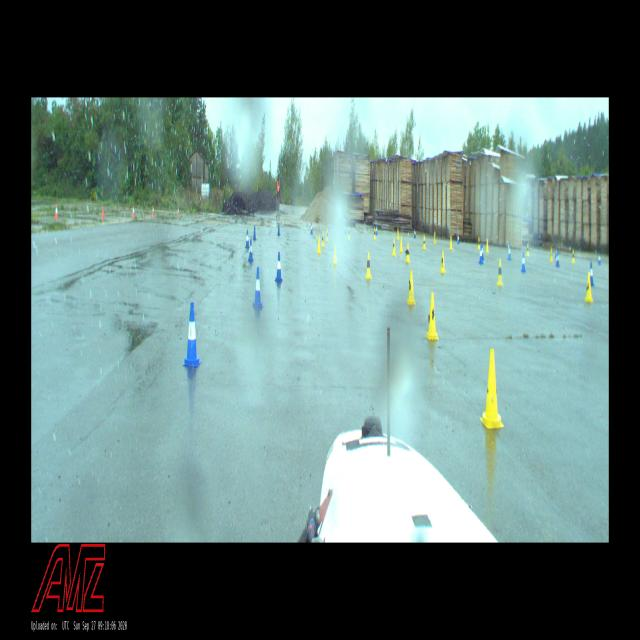blue_cone: (184, 302, 202, 368), (253, 266, 263, 309), (275, 251, 283, 283), (248, 237, 253, 262), (521, 252, 526, 273), (590, 262, 594, 286), (479, 245, 483, 264), (246, 230, 250, 248), (556, 252, 560, 268), (252, 225, 256, 241), (508, 244, 512, 260), (481, 244, 484, 259), (310, 222, 313, 235), (598, 253, 601, 265), (457, 233, 460, 244), (278, 222, 280, 236), (414, 226, 416, 239)
orange_cone: (54, 205, 59, 219), (132, 205, 135, 219), (152, 204, 155, 217), (102, 206, 105, 219), (177, 205, 180, 217)
yellow_cone: (480, 348, 504, 428), (426, 292, 439, 342), (407, 272, 416, 306), (584, 271, 592, 303), (365, 252, 372, 280), (497, 258, 503, 286), (440, 251, 446, 274), (405, 244, 411, 264), (316, 235, 322, 255), (332, 245, 337, 265), (392, 237, 396, 257), (422, 235, 427, 251), (399, 236, 403, 252), (449, 235, 453, 250), (526, 243, 530, 257), (477, 236, 481, 250), (321, 231, 324, 247), (550, 248, 553, 263), (373, 226, 376, 241), (486, 239, 489, 253), (433, 231, 436, 245), (348, 226, 350, 241), (572, 250, 574, 264), (326, 228, 328, 242)
